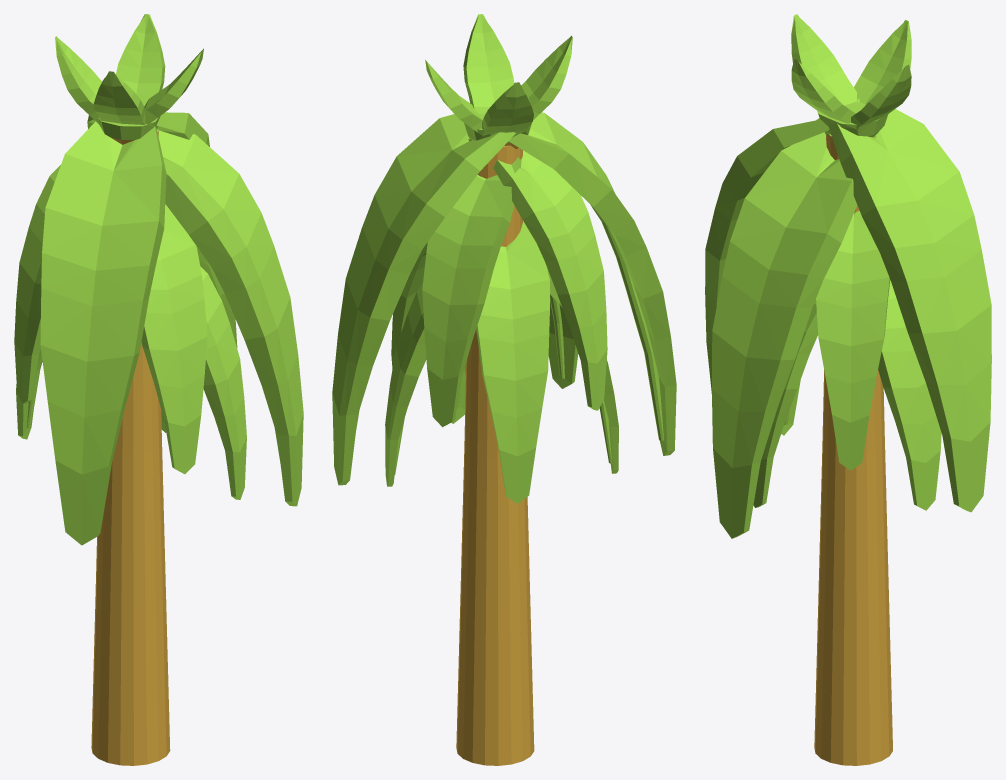
Rendered from lp_tree_06.glb.
The picture shows the model from 3 angles, left to right: view 1: azimuth 30°, elevation 25°; view 2: azimuth 150°, elevation 25°; view 3: azimuth 270°, elevation 25°; orthographic projection.
Visible parts, largest first — view 1: Object_17, Object_12; view 2: Object_17, Object_12; view 3: Object_17, Object_12.
Boxes of the visible parts, x1,y1,x2,y2 form: Object_17: (14,14,303,545); Object_12: (91,131,170,765); Object_17: (332,14,676,503); Object_12: (456,138,534,765); Object_17: (705,14,991,538); Object_12: (814,134,892,765).
Size of the model in its own units: 0.2328 by 0.6241 by 0.2281.
